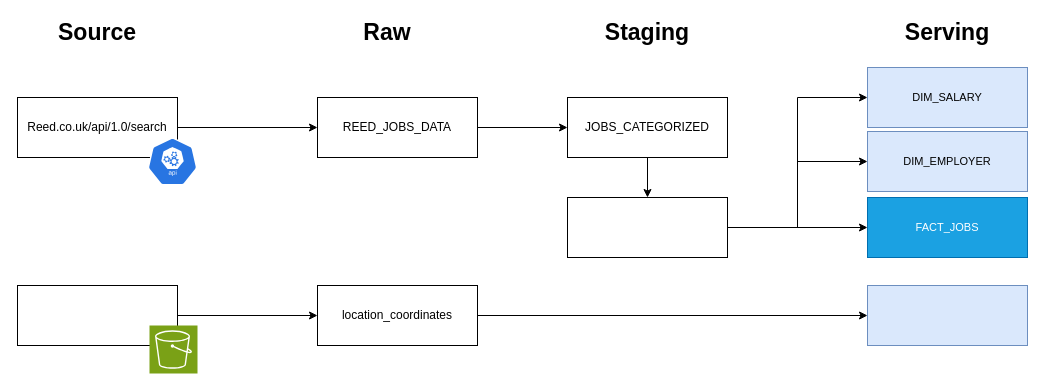
Image size: 1045x391. Some labels were removed from this diagram. Here are the shapes that lost their labels. From the top down, the centre of each, then its label:
At [647,227]: "JOBS_CATGORIZED_UNIQUE".
At [97,315]: "location_coordinates.csv".
At [947,315]: "DIM_LOCATIONS".
